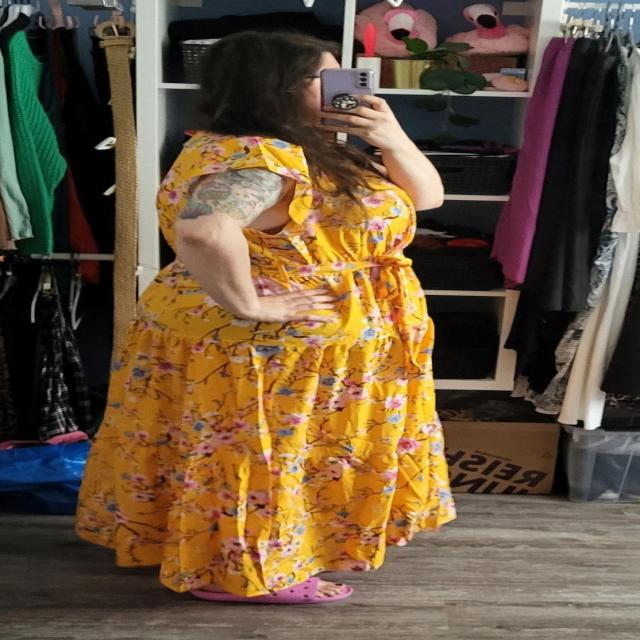clothes: (66, 122, 470, 597)
